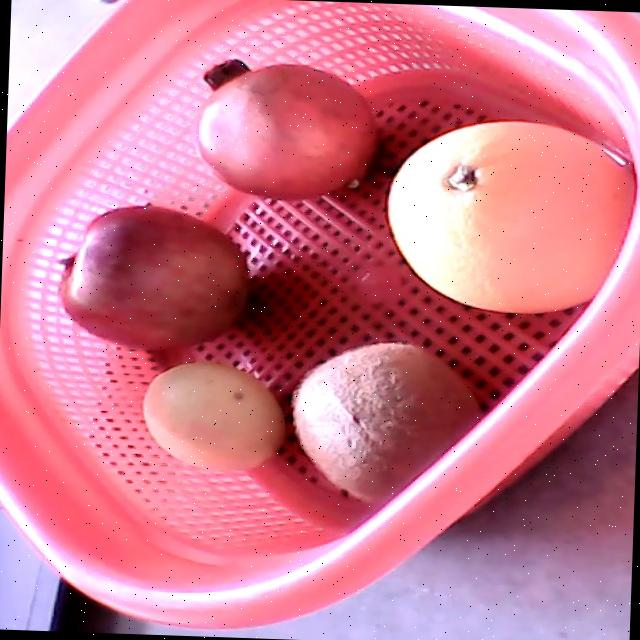apple: (58, 204, 249, 348)
kiwi: (293, 342, 484, 504)
lemon: (142, 360, 285, 471)
orange: (386, 119, 637, 313)
pomegranate: (197, 55, 380, 200)
